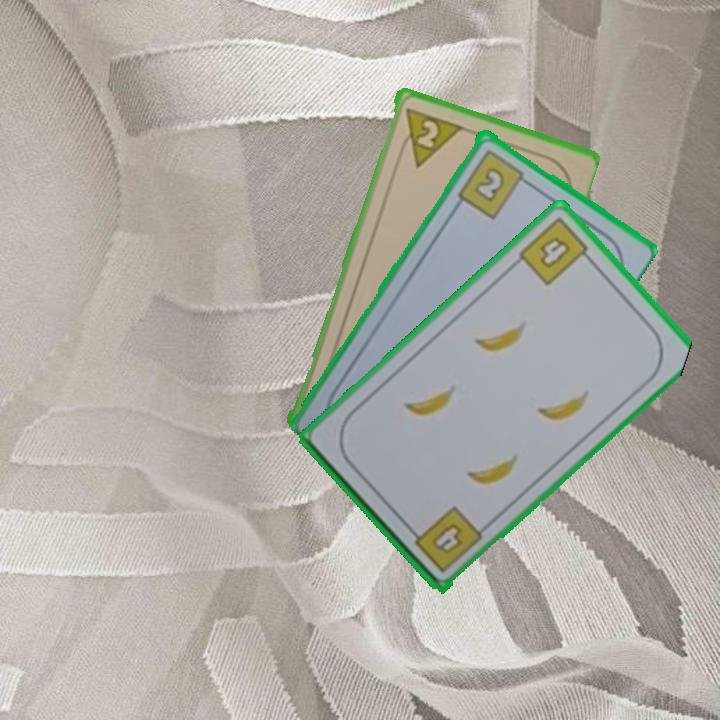2b: (454, 145, 533, 221)
2p: (395, 103, 462, 169)
4b: (515, 213, 597, 289), (405, 502, 485, 576)
